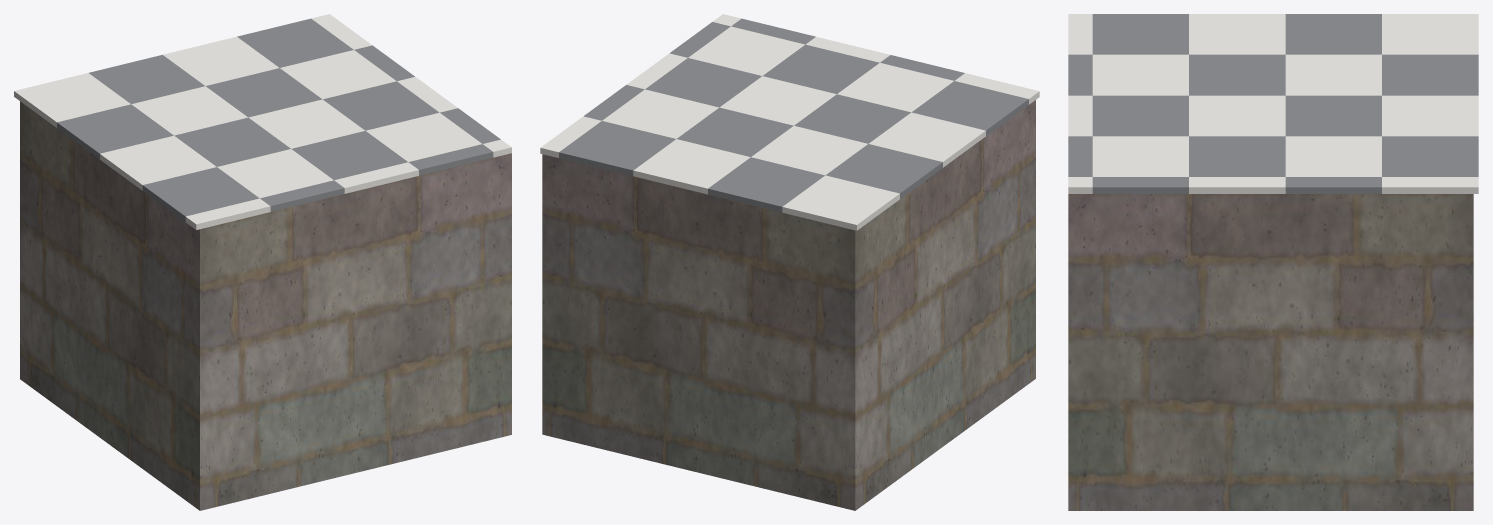
Rendered from floor_hall_g_e0_30_0_30.glb.
3 views of the same model, side by side, from view 1: azimuth 30°, elevation 25°; view 2: azimuth 150°, elevation 25°; view 3: azimuth 270°, elevation 25° (orthographic). The views are drawn at different scales.
Parts seen in each view (by area): view 1: floor_hall_g_e0_30_0_30_plinth, floor_hall_g_e0_30_0_30_marble, floor_hall_g_e0_30_0_30_slate; view 2: floor_hall_g_e0_30_0_30_plinth, floor_hall_g_e0_30_0_30_marble, floor_hall_g_e0_30_0_30_slate; view 3: floor_hall_g_e0_30_0_30_plinth, floor_hall_g_e0_30_0_30_marble, floor_hall_g_e0_30_0_30_slate.
Part boxes in pixels (x1,y1,x2,y2): floor_hall_g_e0_30_0_30_plinth: (20, 101, 511, 510); floor_hall_g_e0_30_0_30_marble: (14, 14, 511, 229); floor_hall_g_e0_30_0_30_slate: (57, 18, 500, 221); floor_hall_g_e0_30_0_30_plinth: (542, 100, 1035, 510); floor_hall_g_e0_30_0_30_marble: (540, 14, 1039, 230); floor_hall_g_e0_30_0_30_slate: (559, 18, 1028, 212); floor_hall_g_e0_30_0_30_plinth: (1068, 194, 1473, 510); floor_hall_g_e0_30_0_30_marble: (1068, 14, 1478, 193); floor_hall_g_e0_30_0_30_slate: (1068, 14, 1478, 193).
Bounding box in the file's own units: 1.7 × 1.48 × 1.7.
Materials: 3 (1 with a texture image).
